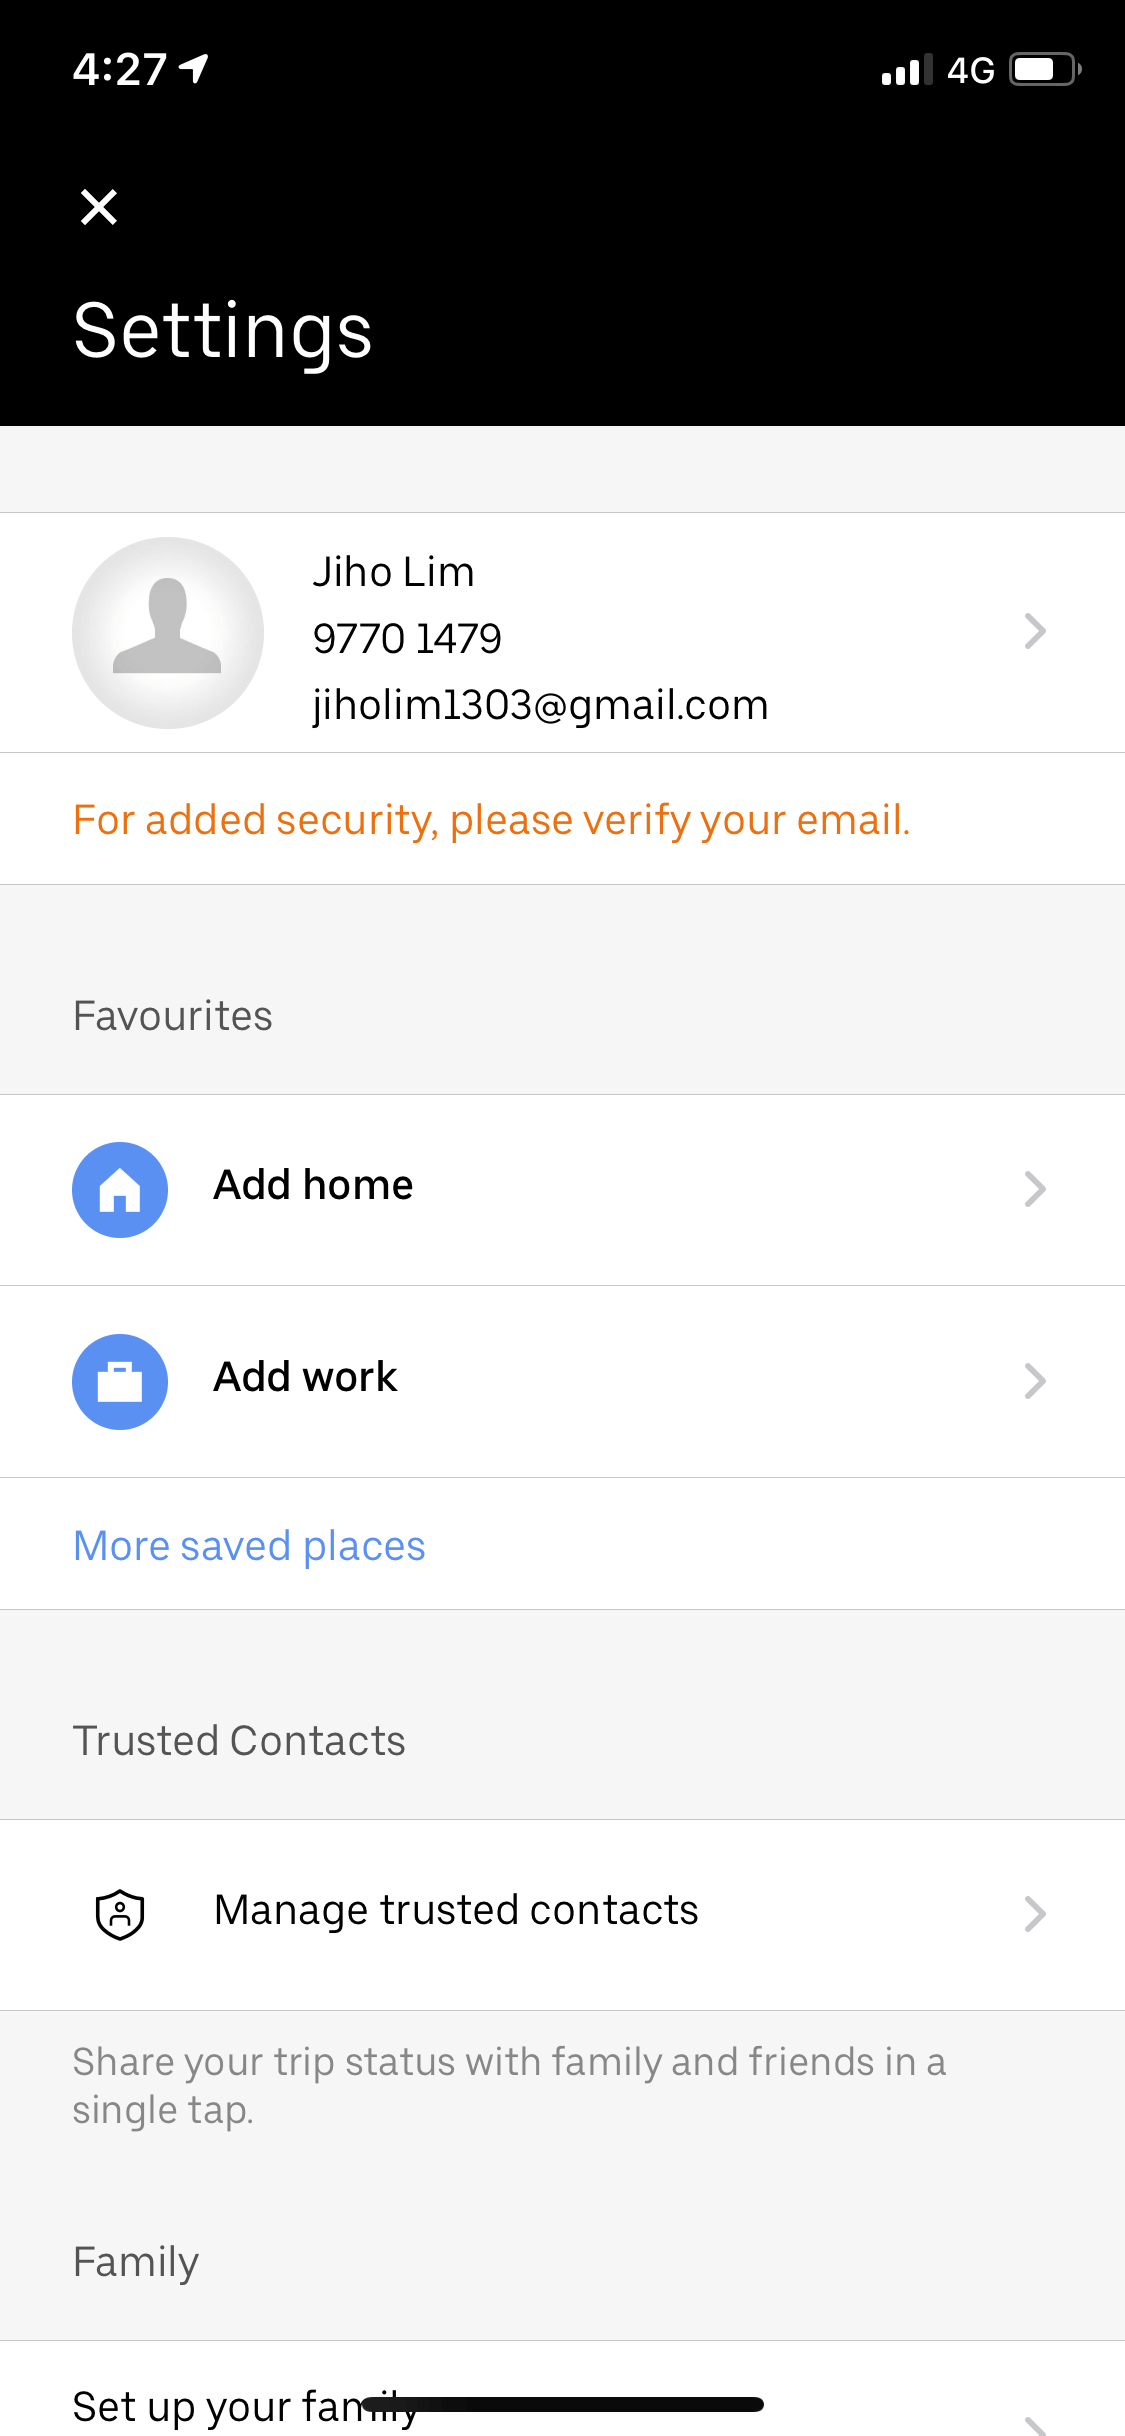Buttons: (51, 144, 155, 255)
